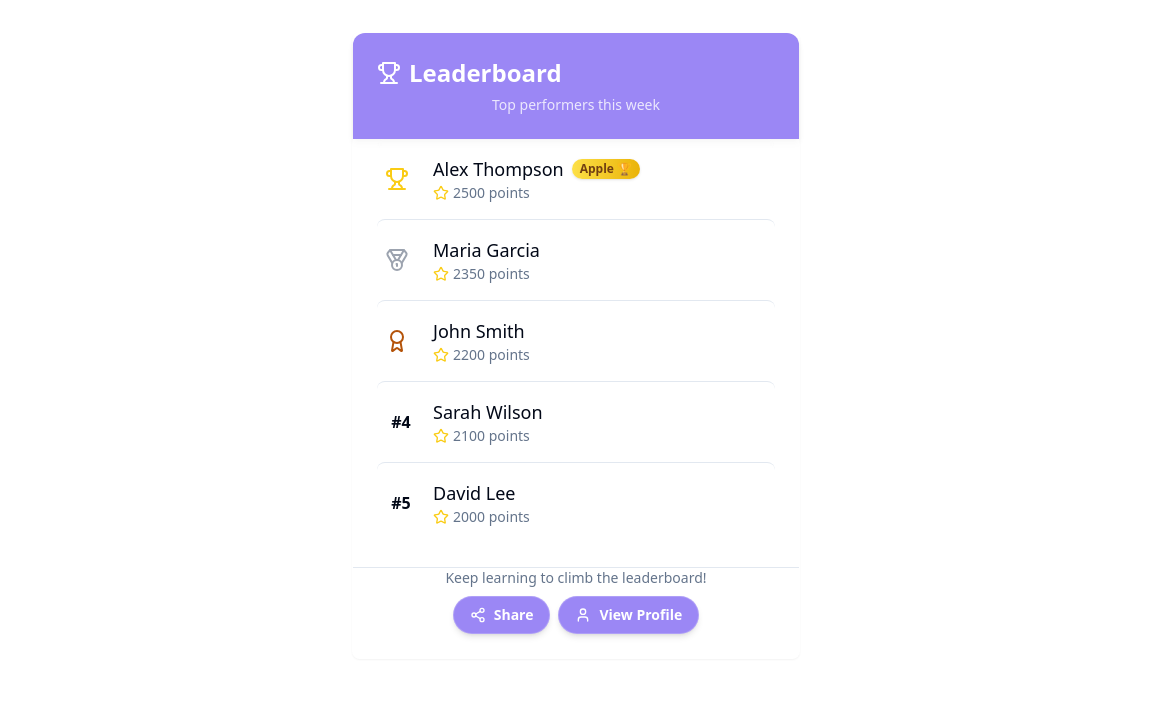
Scenario: Leaderboard Component › profile button opens dialog with animation
// Find and click the profile button
Click the button "View Profile" at point(629, 615), box [558,596,699,634]
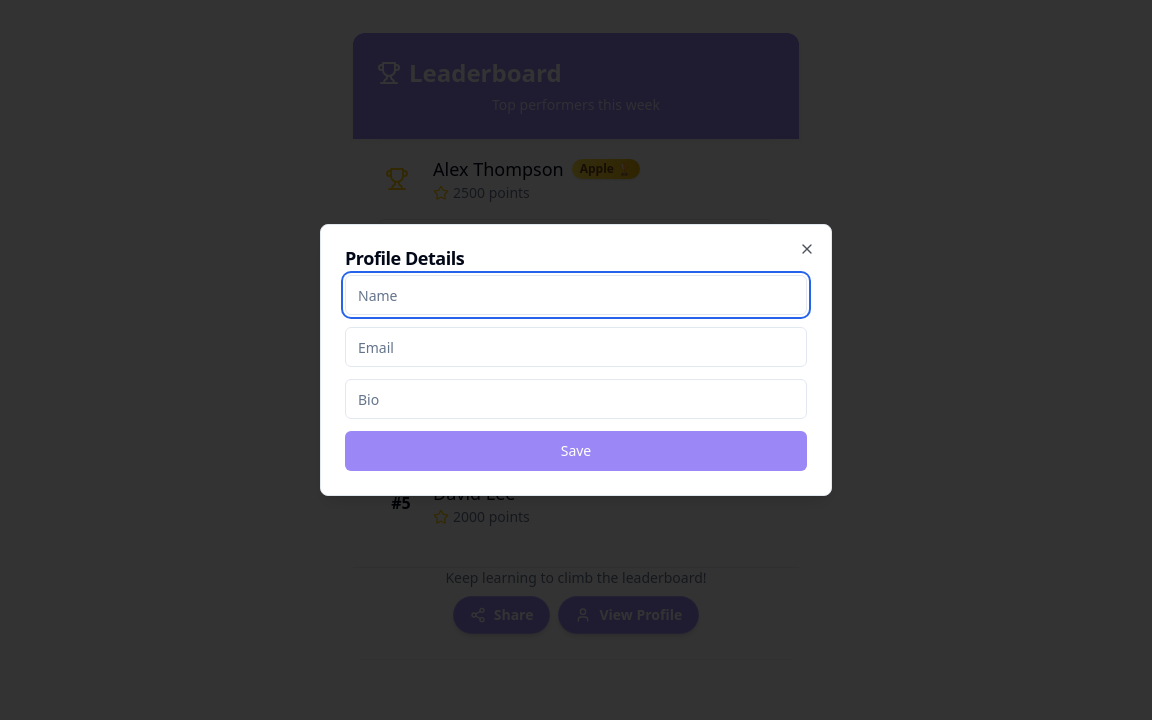
expect the field with placeholder "Name" is shown: met, box [345,275,807,315]
expect the field with placeholder "Email" is shown: met, box [345,327,807,367]
expect the field with placeholder "Bio" is shown: met, box [345,379,807,419]
